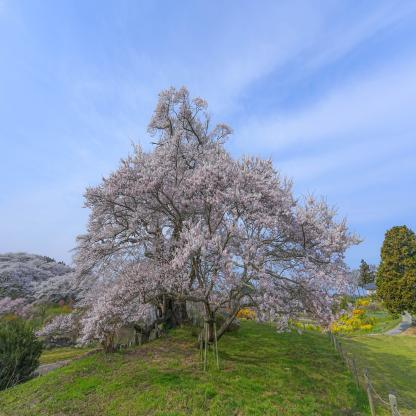EdohiganSakura: (33, 84, 365, 350)
